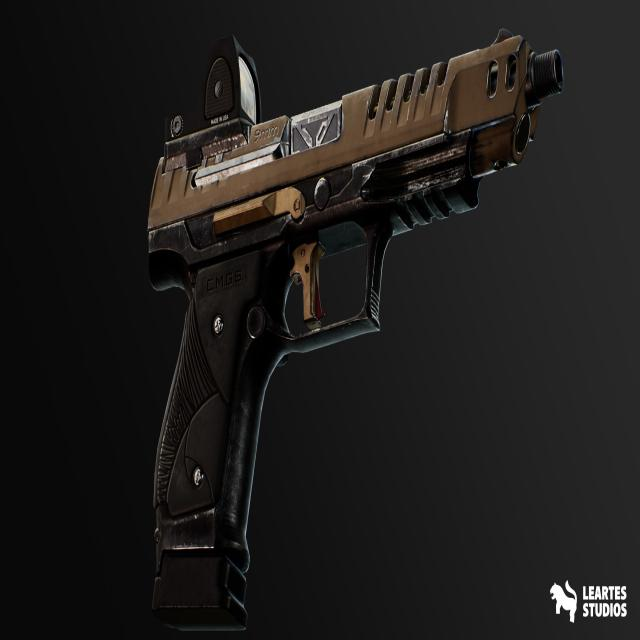HandGun: (147, 31, 567, 627)
